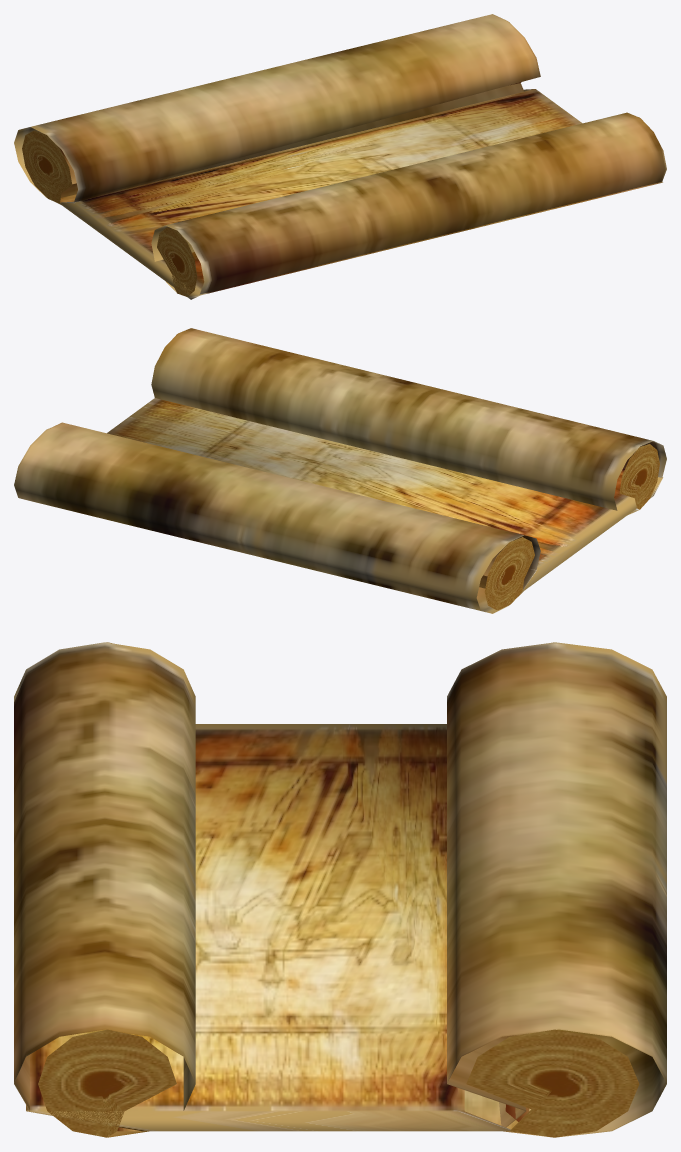
The model's file is bardy.fbx.
3 renders of one model, top to bottom at view 1: azimuth 30°, elevation 25°; view 2: azimuth 150°, elevation 25°; view 3: azimuth 270°, elevation 25°, orthographic. The views are drawn at different scales.
Parts seen in each view (by area): view 1: papyrus; view 2: papyrus; view 3: papyrus.
Boxes of the visible parts, left/top/right/bottom form: papyrus: left=14, top=14, right=666, bottom=299; papyrus: left=14, top=328, right=666, bottom=613; papyrus: left=14, top=642, right=666, bottom=1137.
Bounding box in the file's own units: 49.56 × 6.45 × 35.31.
